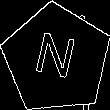N_S: (32, 30, 82, 88)
